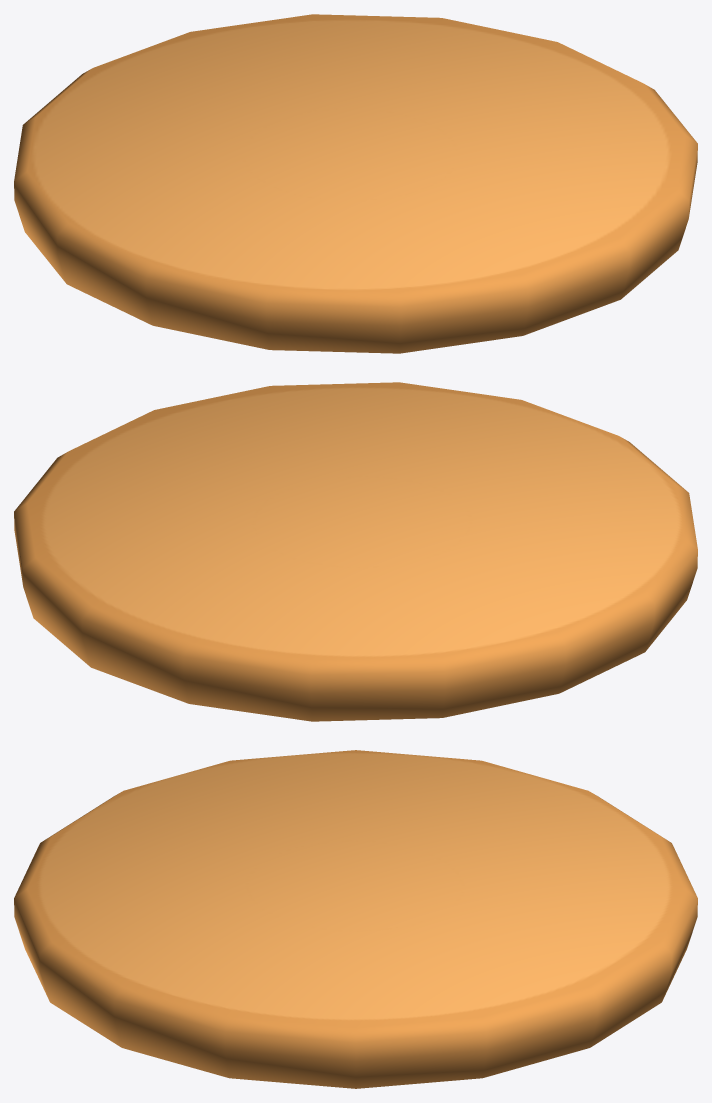
File: BottomBun.fbx
3 views of the same model, one above another, from view 1: azimuth 30°, elevation 25°; view 2: azimuth 150°, elevation 25°; view 3: azimuth 270°, elevation 25° (orthographic).
Parts seen in each view (by area): view 1: Bun Bottom; view 2: Bun Bottom; view 3: Bun Bottom.
Boxes of the visible parts, x1,y1,x2,y2 form: Bun Bottom: (14,14,697,353); Bun Bottom: (14,382,697,721); Bun Bottom: (14,750,697,1088).
Size of the model in its own units: 198 by 21.25 by 198.
